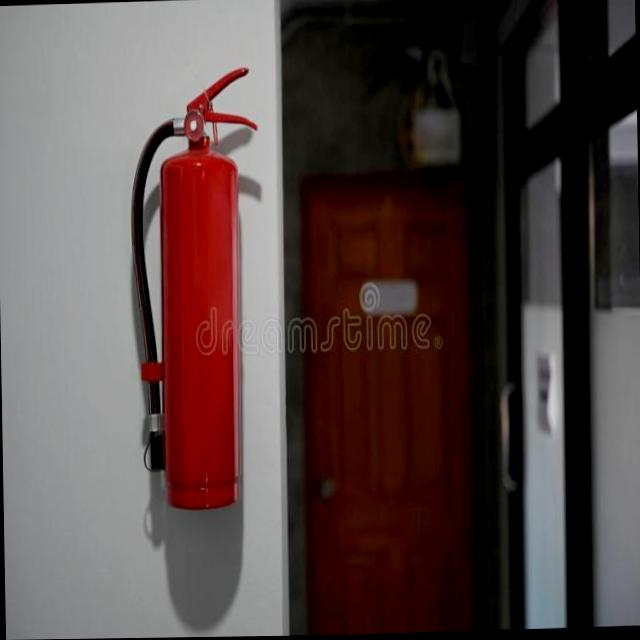FireExtinguisher: (125, 61, 266, 514)
